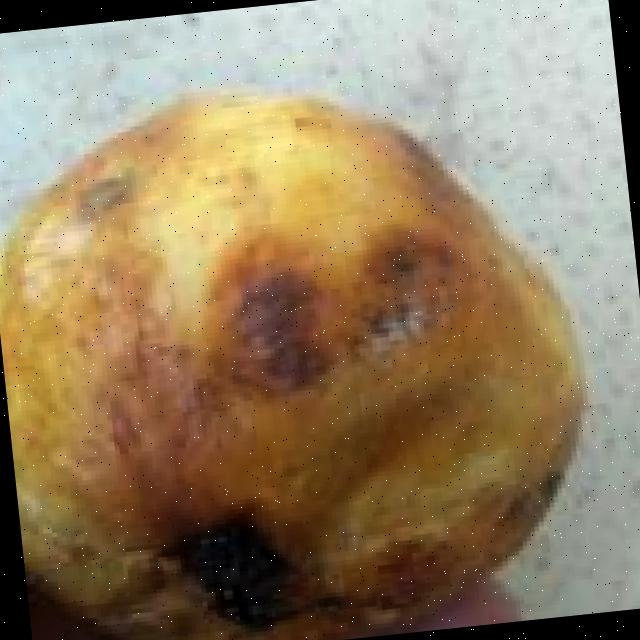Bad_Guava 0 day: (0, 94, 574, 640)
